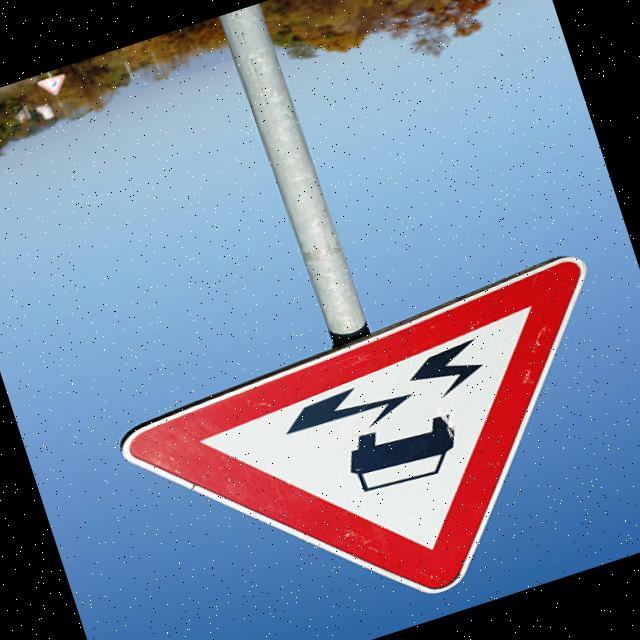road_slippery: (101, 245, 640, 640)
